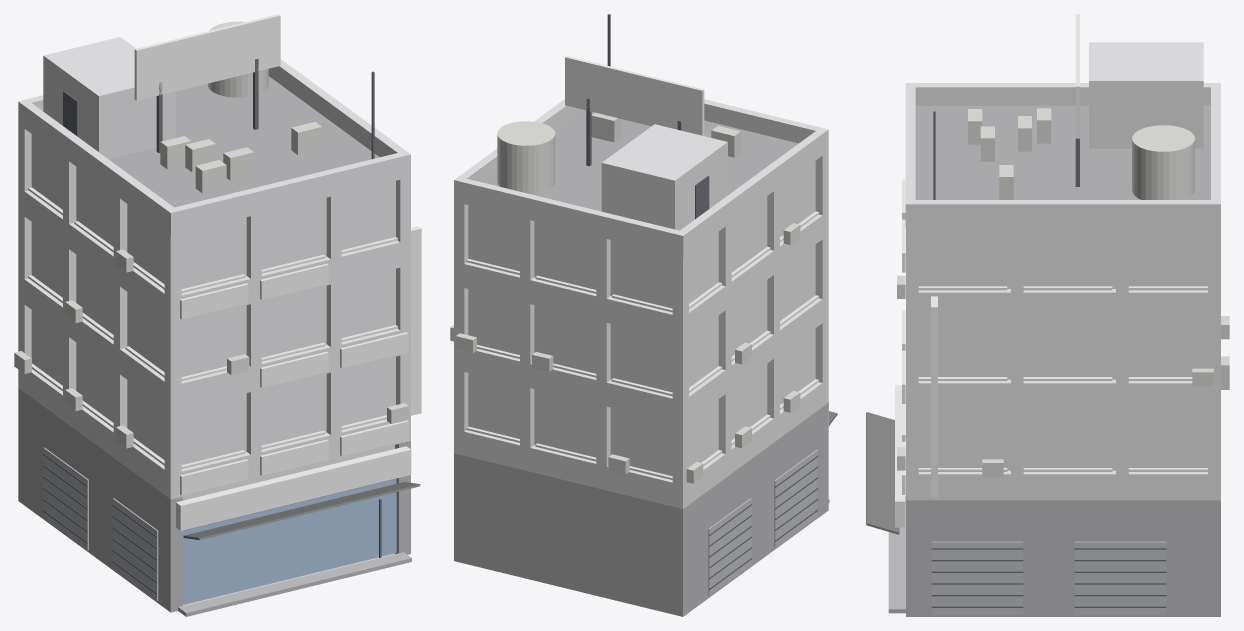
File: bldg_1.glb
3 renders of one model, left to right at view 1: azimuth 30°, elevation 25°; view 2: azimuth 150°, elevation 25°; view 3: azimuth 270°, elevation 25°, orthographic. The views are drawn at different scales.
Parts seen in each view (by area): view 1: building; view 2: building; view 3: building.
Part boxes in pixels (bbox=[...]): building: bbox=[14, 14, 421, 616]; building: bbox=[450, 14, 837, 616]; building: bbox=[866, 14, 1229, 616].
Bounding box in the file's own units: 11.26 × 19.5 × 12.69.
